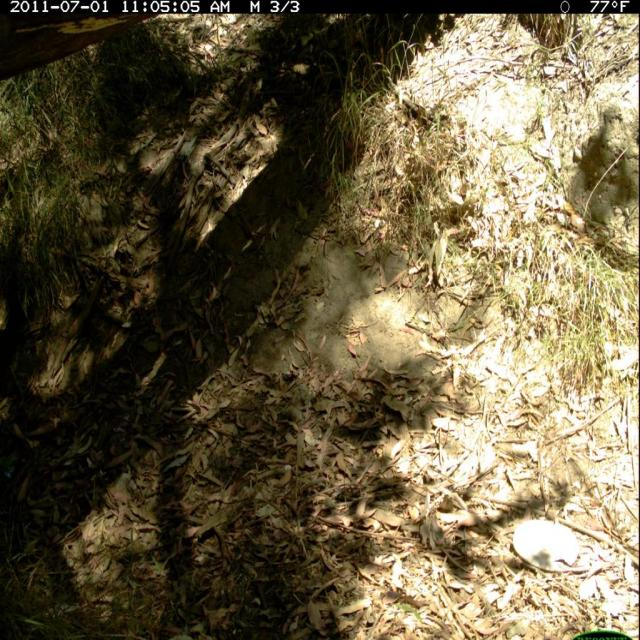bird: (1, 297, 39, 408)
